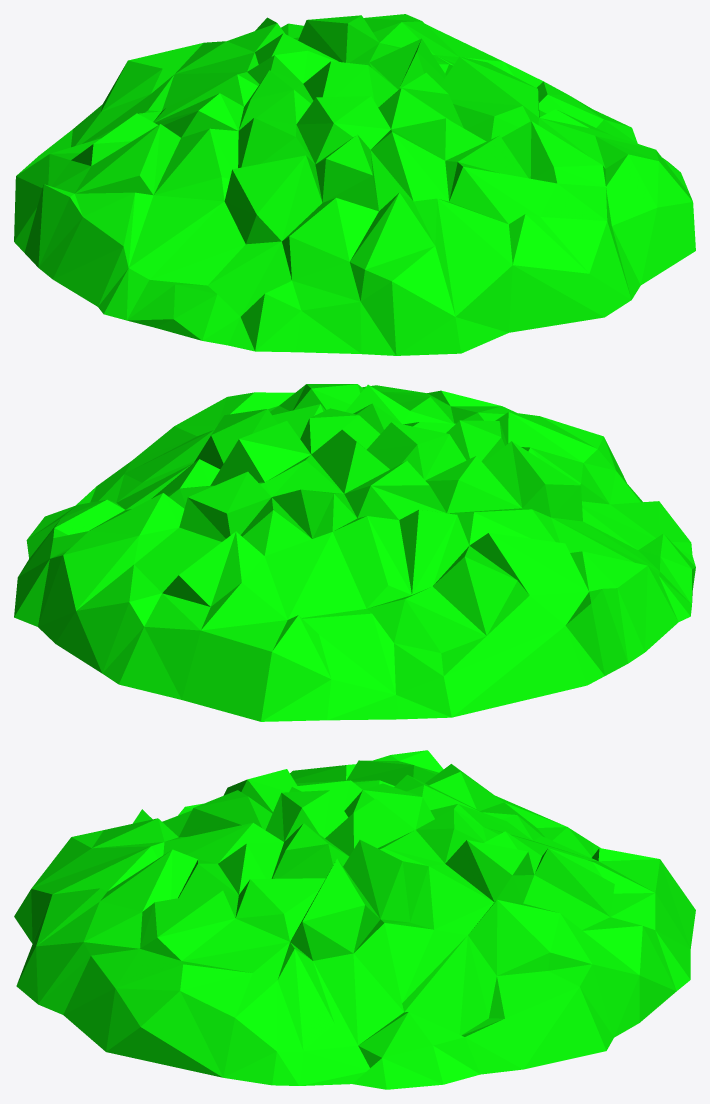
The model's file is SM_Coals_Cold.fbx.
3 views of the same model, one above another, from view 1: azimuth 30°, elevation 25°; view 2: azimuth 150°, elevation 25°; view 3: azimuth 270°, elevation 25° (orthographic).
Visible parts, largest first — view 1: coals-cold; view 2: coals-cold; view 3: coals-cold.
Part boxes in pixels (x1,y1,x2,y2): coals-cold: (14, 14, 695, 355); coals-cold: (14, 384, 695, 721); coals-cold: (14, 750, 695, 1089).
Size of the model in its own units: 0.6928 by 0.1633 by 0.7023.
